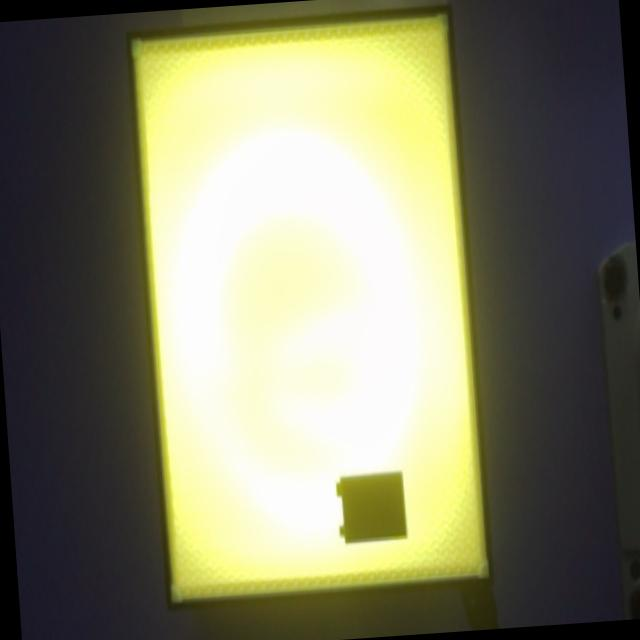bateria: (336, 469, 407, 544)
mesa: (126, 6, 495, 611)
